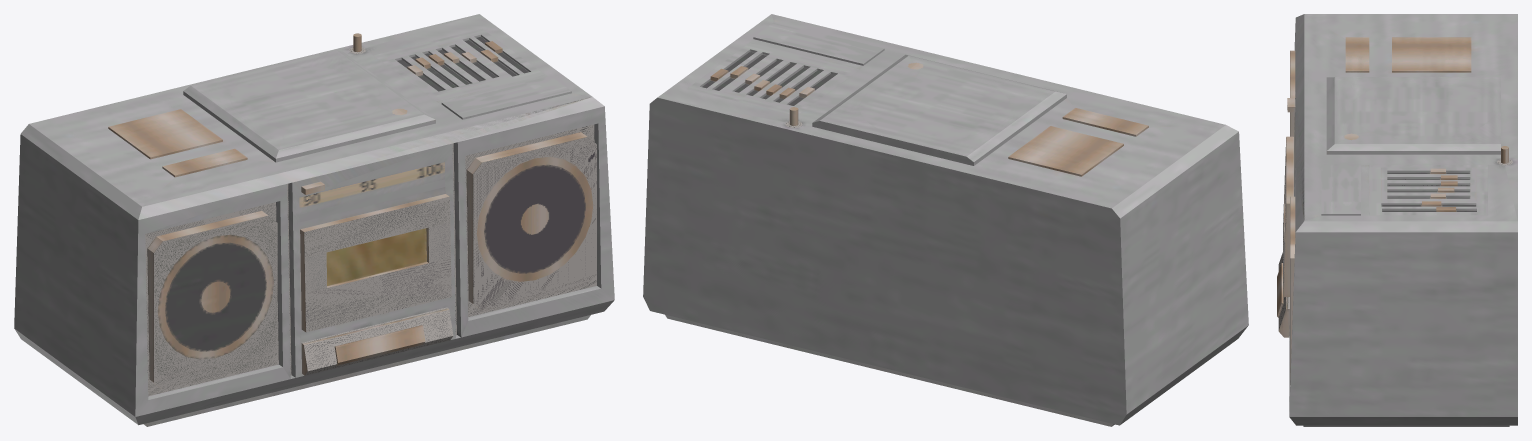
The model's file is Radio.fbx.
3 renders of one model, left to right at view 1: azimuth 30°, elevation 25°; view 2: azimuth 150°, elevation 25°; view 3: azimuth 270°, elevation 25°, orthographic. The views are drawn at different scales.
Visible parts, largest first — view 1: mesh_id9, mesh_id10, mesh_id15, mesh_id58, mesh_id52, mesh_id17, mesh_id46, mesh_id42, mesh_id64, mesh_id68, mesh_id70, mesh_id185 (+36 smaller); view 2: mesh_id9, mesh_id10, mesh_id15, mesh_id17, mesh_id185, mesh_id91, mesh_id89, mesh_id16, mesh_id18, mesh_id13, mesh_id123, mesh_id187 (+5 smaller); view 3: mesh_id9, mesh_id10, mesh_id15, mesh_id17, mesh_id185, mesh_id89, mesh_id18, mesh_id16, mesh_id91, mesh_id123, mesh_id121, mesh_id62 (+13 smaller).
Boxes of the visible parts, box(x1,y1,x2,y2) form: mesh_id9: box(14, 14, 614, 425); mesh_id10: box(14, 15, 614, 424); mesh_id15: box(183, 50, 435, 162); mesh_id58: box(165, 242, 266, 351); mesh_id52: box(484, 164, 585, 273); mesh_id17: box(230, 66, 380, 130); mesh_id46: box(154, 216, 277, 389); mesh_id42: box(473, 137, 596, 311); mesh_id64: box(305, 258, 451, 331); mesh_id68: box(304, 196, 450, 257); mesh_id70: box(326, 228, 426, 285); mesh_id185: box(108, 109, 222, 159); mesh_id9: box(643, 14, 1248, 425); mesh_id10: box(643, 14, 1248, 424); mesh_id15: box(812, 54, 1066, 165); mesh_id17: box(859, 75, 1011, 139); mesh_id185: box(1008, 126, 1123, 176); mesh_id91: box(753, 21, 884, 65); mesh_id89: box(687, 42, 859, 114); mesh_id16: box(814, 55, 1066, 165); mesh_id18: box(860, 76, 1010, 139); mesh_id13: box(665, 315, 1114, 426); mesh_id123: box(739, 58, 837, 104); mesh_id187: box(1062, 108, 1148, 136); mesh_id9: box(1289, 14, 1517, 425); mesh_id10: box(1289, 14, 1517, 425); mesh_id15: box(1326, 77, 1500, 154); mesh_id17: box(1350, 80, 1492, 140); mesh_id185: box(1392, 37, 1471, 72); mesh_id89: box(1369, 165, 1487, 215); mesh_id18: box(1351, 80, 1492, 139); mesh_id16: box(1326, 77, 1500, 154); mesh_id91: box(1321, 163, 1360, 215); mesh_id123: box(1387, 170, 1470, 197); mesh_id121: box(1381, 167, 1476, 201); mesh_id62: box(1283, 136, 1293, 296).
Size of the model in its own units: 267 by 126 by 123.
Materials: 1 (1 with a texture image).
